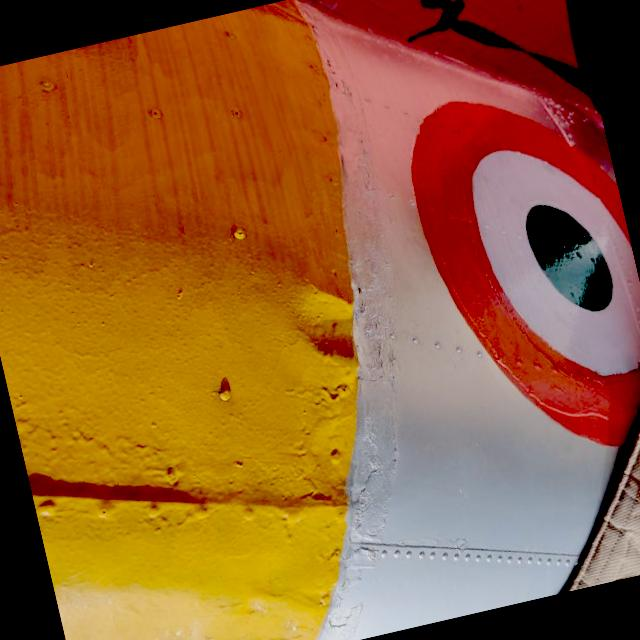dent: (260, 245, 402, 402)
